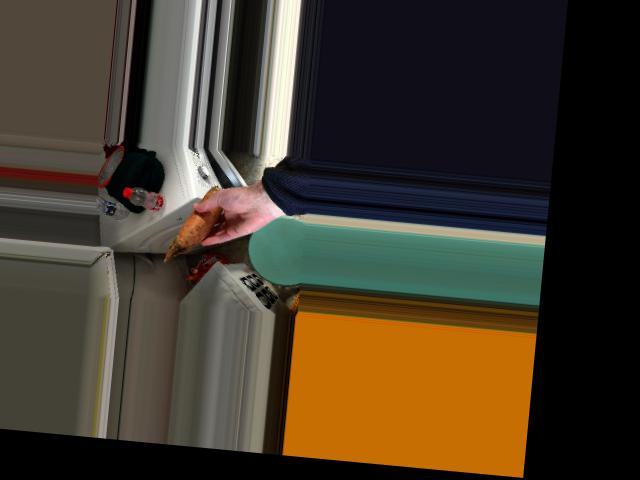sweet_potato: (179, 192, 219, 245)
